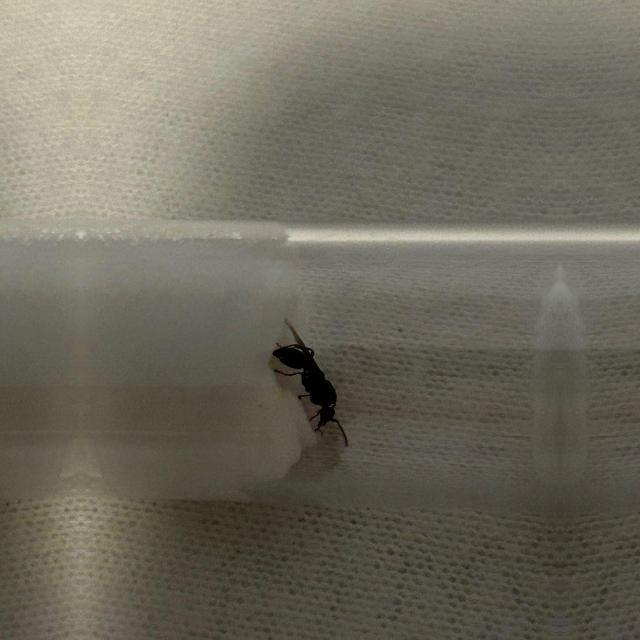Myrmica: (271, 329, 343, 445)
